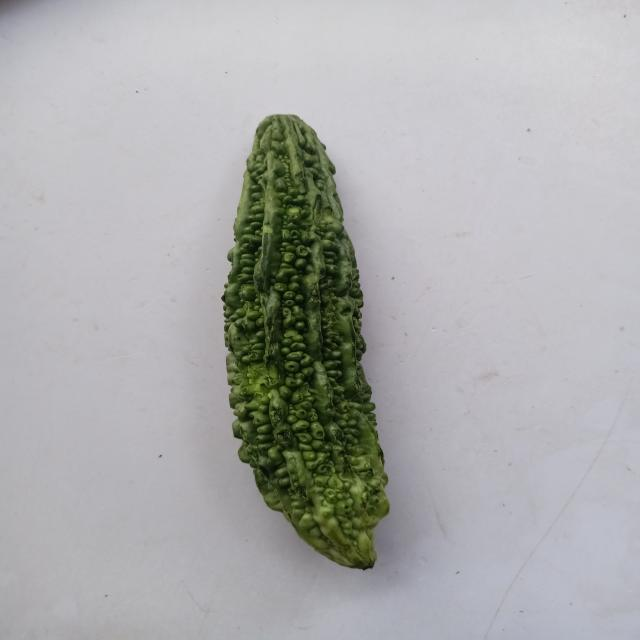Bitter Gourd: (158, 91, 487, 607)
